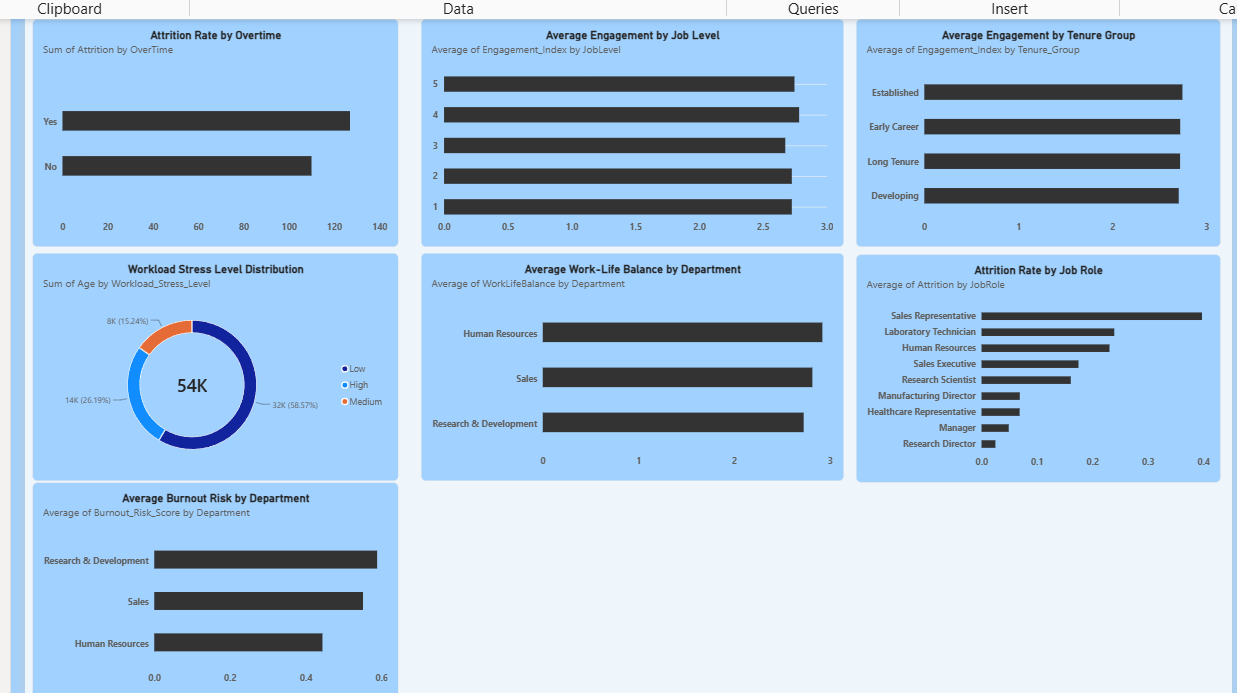

This screenshot's page, from the dashboard's own definition file:
{"tool":"powerbi","page":{"name":"Page 2","canvas":[1920,1080],"ordinal":2},"visuals":[{"type":"clusteredBarChart","title":"Attrition Rate by Overtime","fields":{"Category":["Palo_Alto_Networks_Employee_Engagement_Final.OverTime"],"Y":["Sum(Palo_Alto_Networks_Employee_Engagement_Final.Attrition)"]},"box":[11.9,0,582.2,362.7],"z":0},{"type":"donutChart","title":"Workload Stress Level Distribution","fields":{"Category":["Palo_Alto_Networks_Employee_Engagement_Final.Workload_Stress_Level"],"Y":["Sum(Palo_Alto_Networks_Employee_Engagement_Final.Age)"]},"box":[11.9,372.2,582.2,362.7],"z":1000},{"type":"clusteredBarChart","title":"Average Engagement by Job Level","fields":{"Category":["Palo_Alto_Networks_Employee_Engagement_Final.JobLevel"],"Y":["Avg(Palo_Alto_Networks_Employee_Engagement_Final.Engagement_Index)"]},"box":[629.9,0,672.8,362.7],"z":2000},{"type":"clusteredBarChart","title":"Average Engagement by Tenure Group","fields":{"Category":["Palo_Alto_Networks_Employee_Engagement_Final.Tenure_Group"],"Y":["Avg(Palo_Alto_Networks_Employee_Engagement_Final.Engagement_Index)"]},"box":[1321.8,0,579.8,362.7],"z":3000},{"type":"clusteredBarChart","title":"Attrition Rate by Job Role","fields":{"Category":["Palo_Alto_Networks_Employee_Engagement_Final.JobRole"],"Y":["Avg(Palo_Alto_Networks_Employee_Engagement_Final.Attrition)"]},"box":[1321.8,374.6,579.8,362.7],"z":4000},{"type":"clusteredBarChart","title":"Average Work-Life Balance by Department","fields":{"Category":["Palo_Alto_Networks_Employee_Engagement_Final.Department"],"Y":["Avg(Palo_Alto_Networks_Employee_Engagement_Final.WorkLifeBalance)"]},"box":[629.9,372.2,672.8,362.7],"z":5000},{"type":"clusteredBarChart","title":"Average Burnout Risk by Department","fields":{"Category":["Palo_Alto_Networks_Employee_Engagement_Final.Department"],"Y":["Avg(Palo_Alto_Networks_Employee_Engagement_Final.Burnout_Risk_Score)"]},"box":[11.9,737.2,582.2,343.6],"z":6000}]}

Visuals, with their boxes on the page's 1920x1080 design canvas (x1, y1, x2, y2). These are canvas units, not pixel positions in the 1237x693 screenshot, which may show the page scaled, cropped or inside an application window:
"Attrition Rate by Overtime" clusteredBarChart: l=12, t=0, r=594, b=363
"Workload Stress Level Distribution" donutChart: l=12, t=372, r=594, b=735
"Average Engagement by Job Level" clusteredBarChart: l=630, t=0, r=1303, b=363
"Average Engagement by Tenure Group" clusteredBarChart: l=1322, t=0, r=1902, b=363
"Attrition Rate by Job Role" clusteredBarChart: l=1322, t=375, r=1902, b=737
"Average Work-Life Balance by Department" clusteredBarChart: l=630, t=372, r=1303, b=735
"Average Burnout Risk by Department" clusteredBarChart: l=12, t=737, r=594, b=1081
